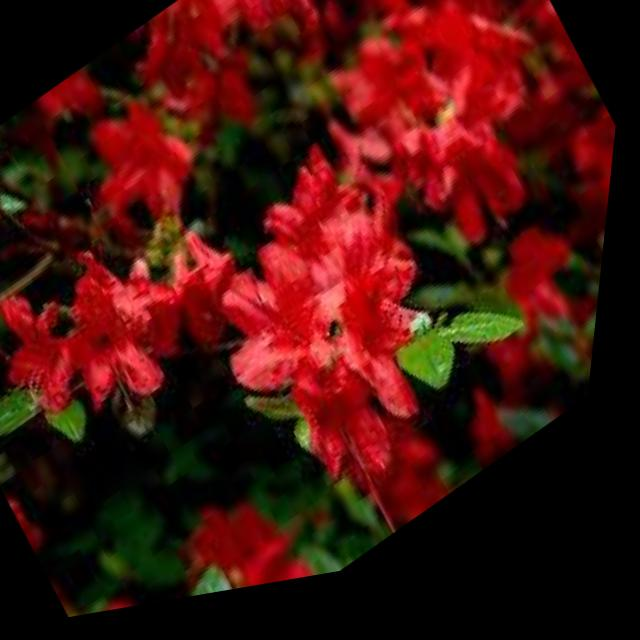Flower: (196, 202, 484, 529), (235, 136, 448, 379), (13, 241, 201, 465)
